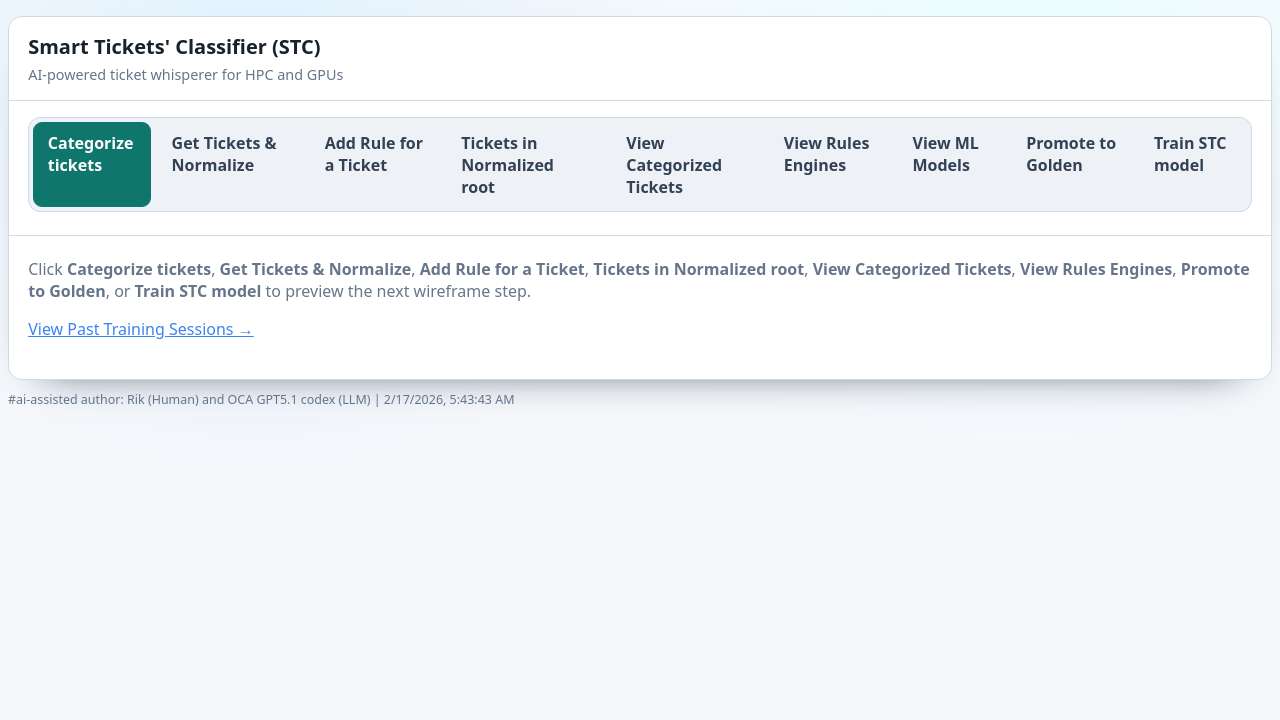
Test: STC wireframe flow › shows add-rule inputs with script-matching defaults
The image size is (1280, 720).
Click the link "Add Rule for a Ticket" at (374, 154), box [325,132,423,176]
(page scrolled)
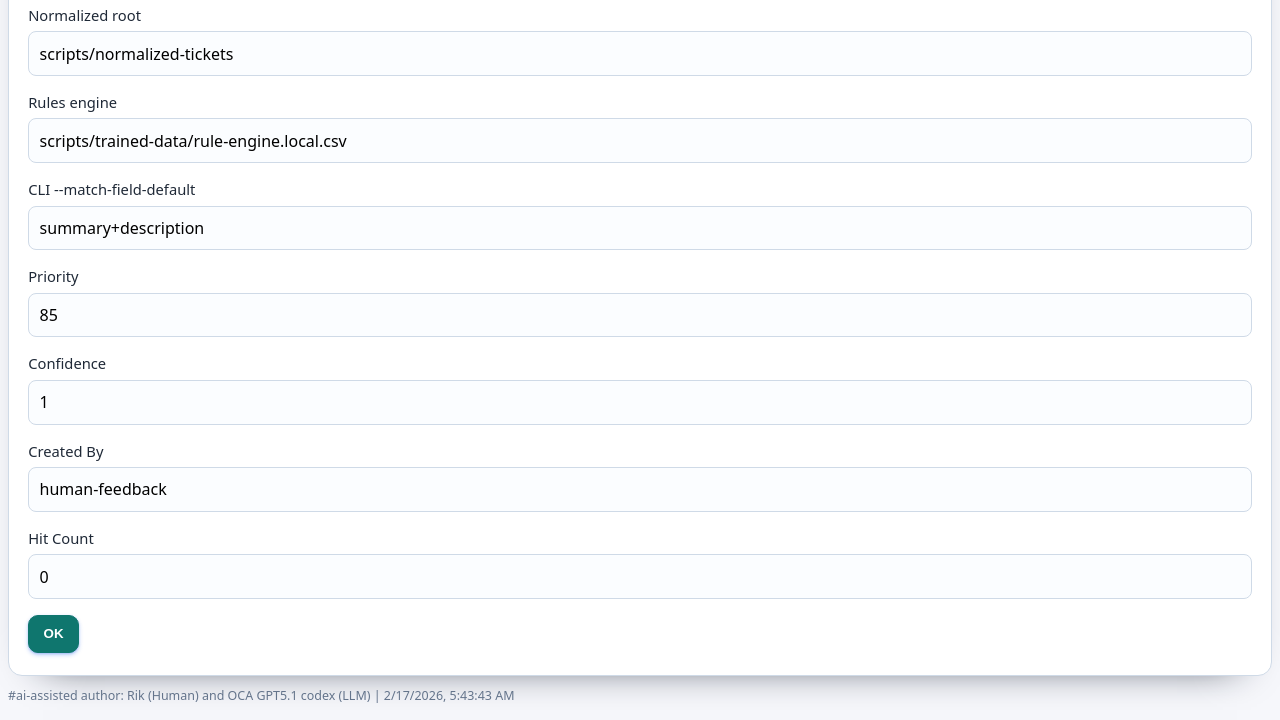
Result: the field showing "scripts/normalized-tickets" is shown at [28,31,1252,76]
Result: the field showing "scripts/trained-data/rule-engine.local.csv" is shown at [28,118,1252,163]
Result: the field showing "summary+description" is shown at [28,206,1252,250]
